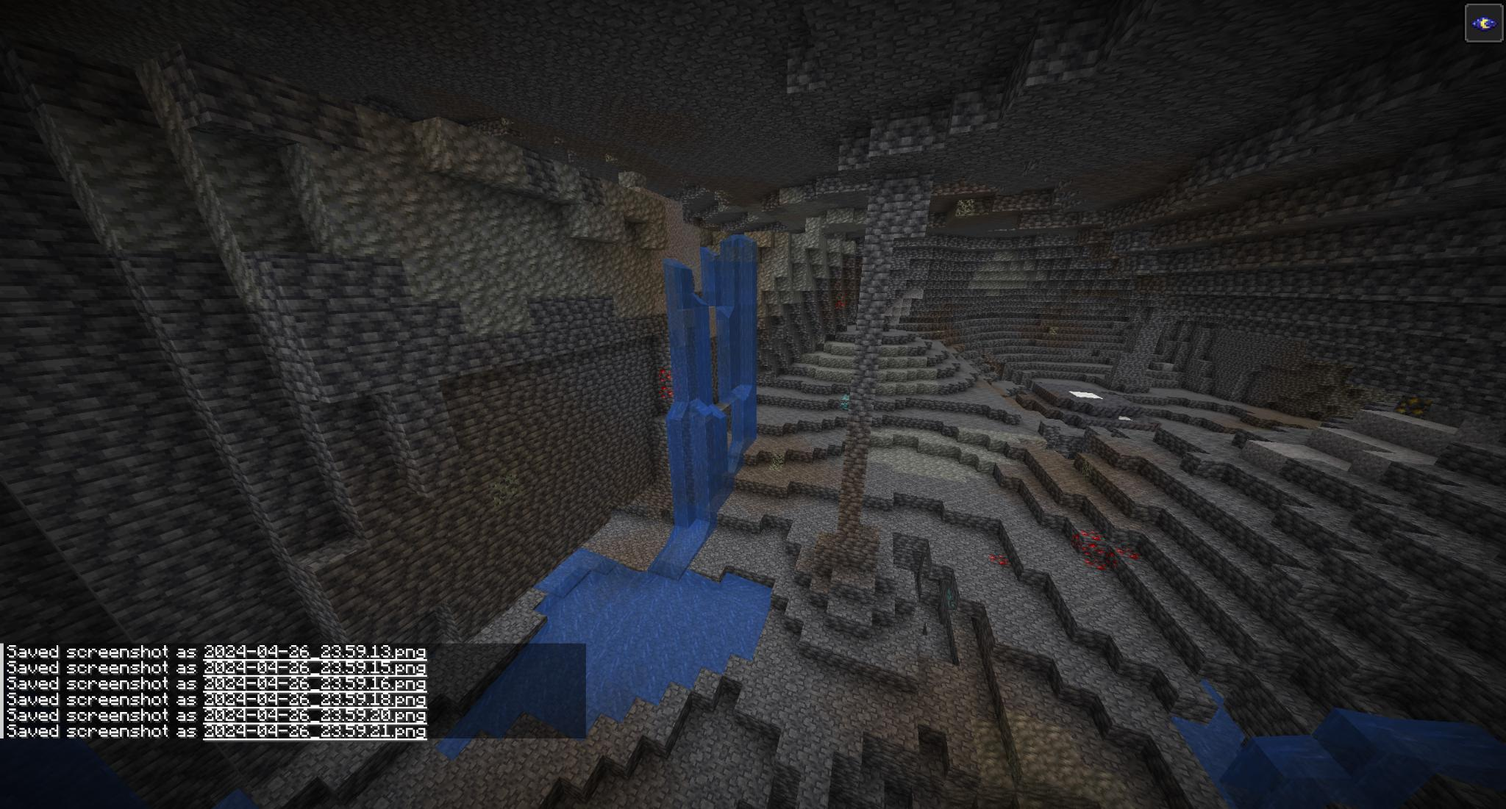diamond ore: (941, 589, 962, 613), (837, 391, 852, 411)
redstone ore: (1071, 523, 1141, 570), (654, 364, 675, 403), (982, 553, 1012, 569)
